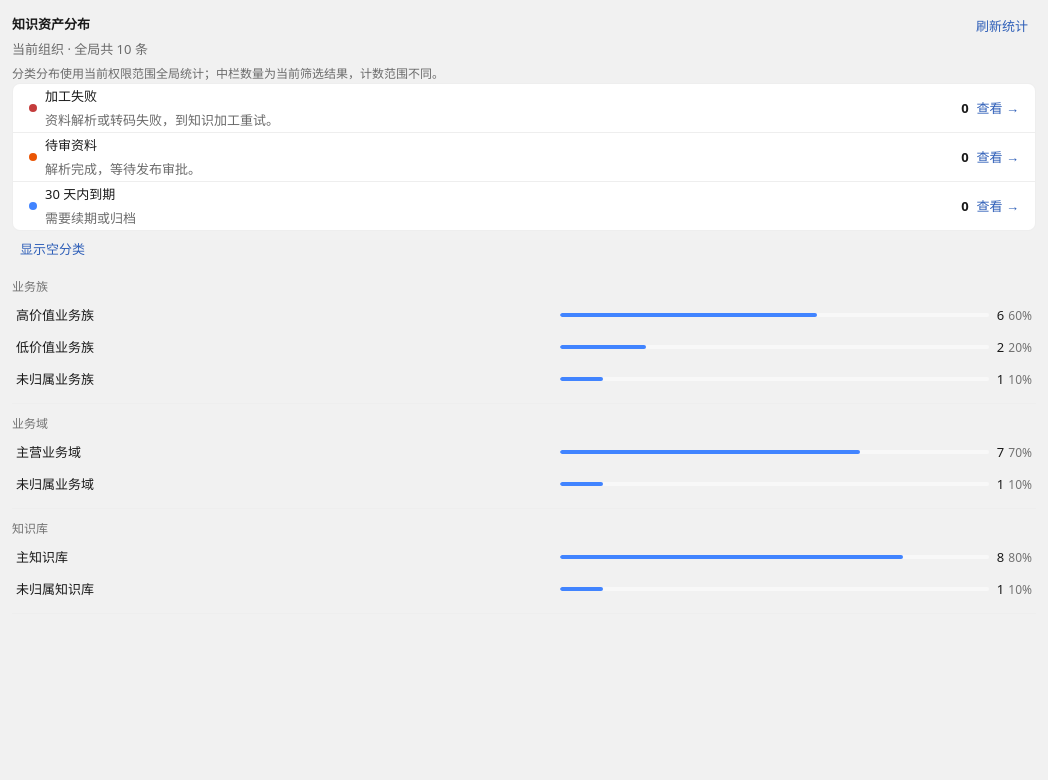
it: knowledge asset distribution › hides zero-count categories by default and explicitly expands then collapses them
Expected: the button "未归属业务族 1 10%" is shown, [12,363,1036,395]
Click the button "显示空分类" at (52, 249), box [12,235,93,263]
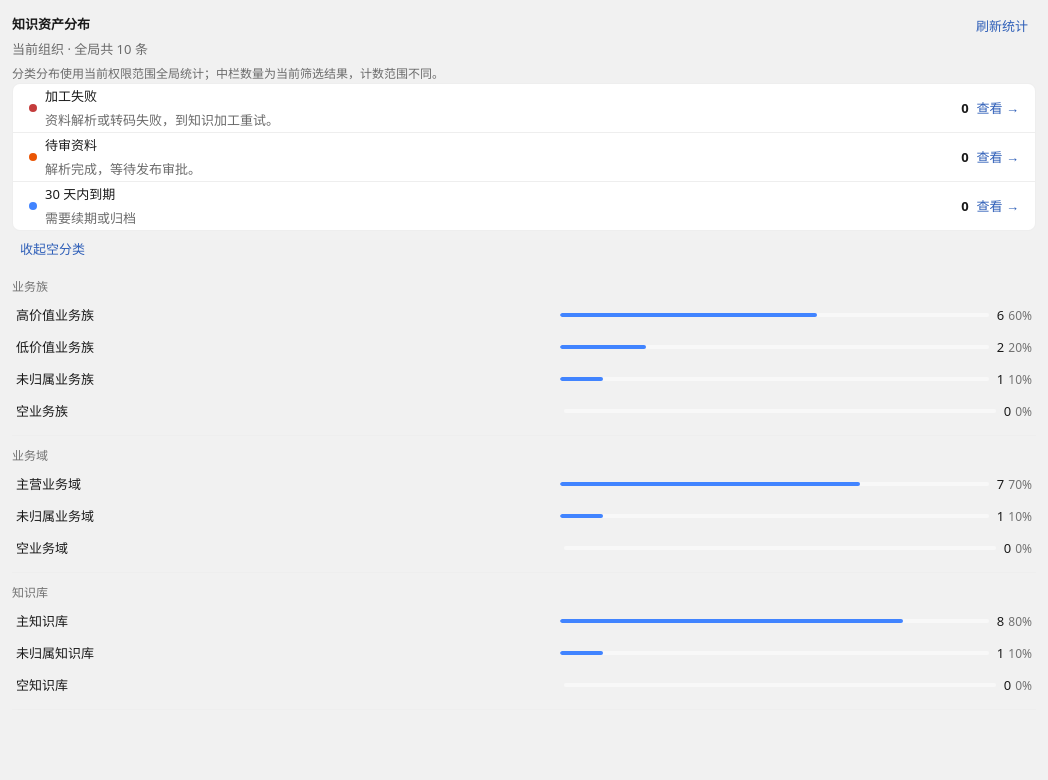
Expected: the button "收起空分类" is expanded
Expected: the button "空业务族 0 0%" is shown, [12,395,1036,427]
Click the button "收起空分类" at (52, 249), box [12,235,93,263]
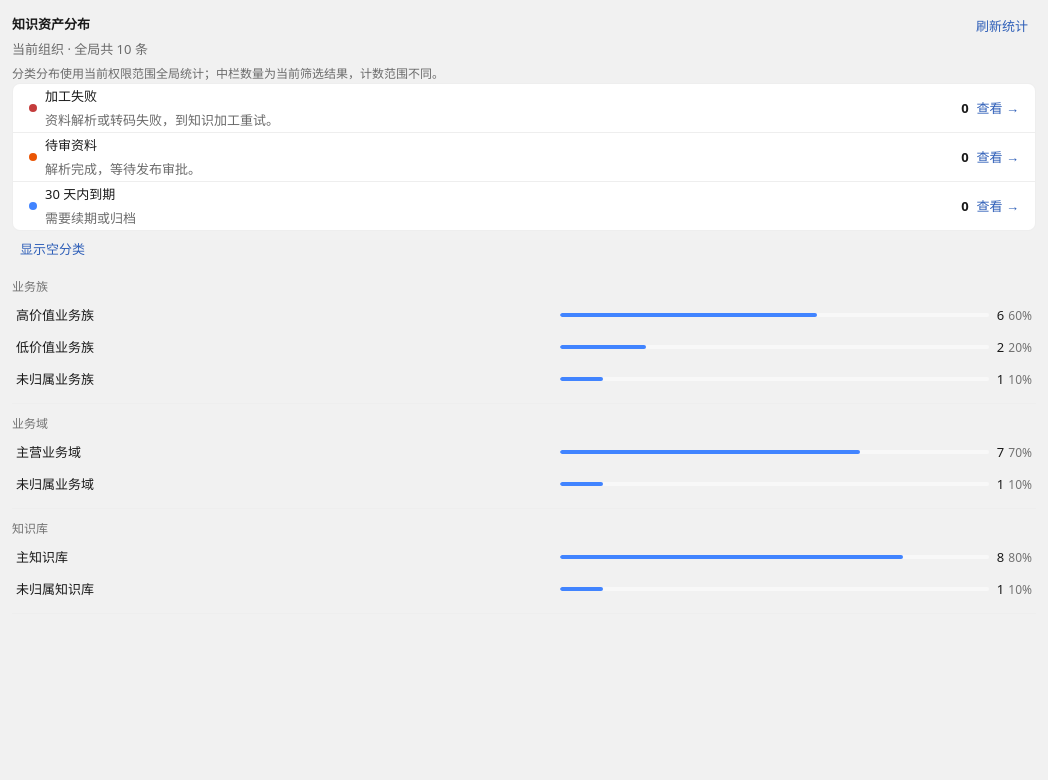
Expected: the button "显示空分类" is collapsed, [12,235,93,263]
